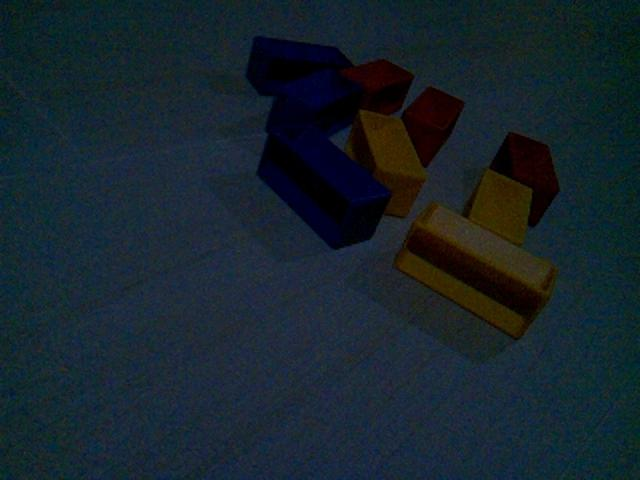blue: (255, 121, 393, 251), (244, 33, 354, 98), (266, 67, 364, 136)
red: (489, 130, 561, 228), (401, 84, 466, 168), (339, 57, 415, 115)
yellow: (393, 200, 559, 341), (346, 108, 429, 219), (464, 167, 534, 246)
